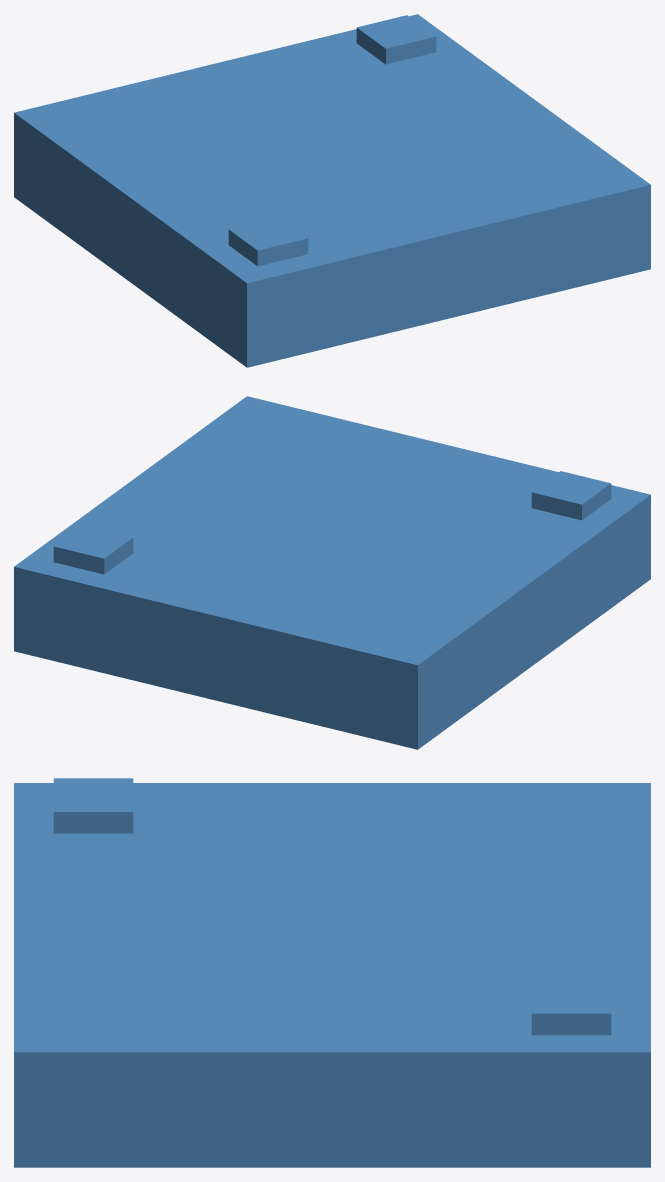
File: game-platform.glb
The picture shows the model from 3 angles, top to bottom: view 1: azimuth 30°, elevation 25°; view 2: azimuth 150°, elevation 25°; view 3: azimuth 270°, elevation 25°; orthographic projection. The views are drawn at different scales.
Parts seen in each view (by area): view 1: Game_Platform; view 2: Game_Platform; view 3: Game_Platform.
Boxes of the visible parts, x1=… form: Game_Platform: x1=14, y1=14, x2=650, y2=367; Game_Platform: x1=14, y1=396, x2=650, y2=749; Game_Platform: x1=14, y1=778, x2=650, y2=1167.
Bounding box in the file's own units: 4 × 0.95 × 4.
